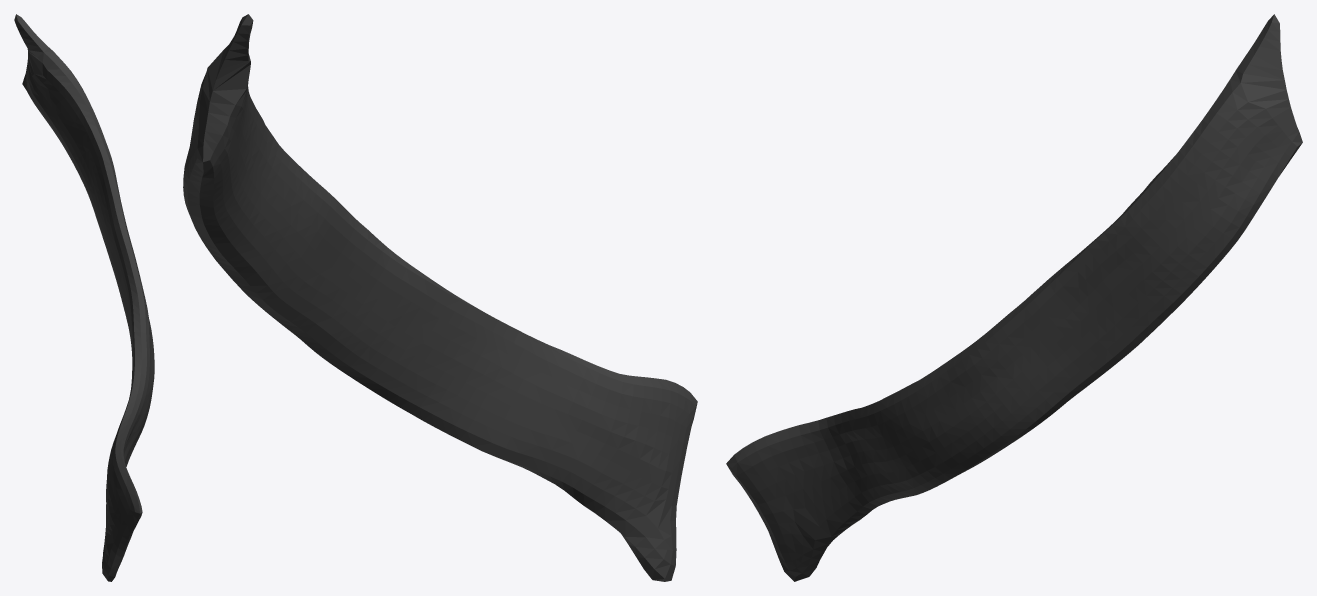
Rendered from zygomaticus.glb.
3 renders of one model, left to right at view 1: azimuth 30°, elevation 25°; view 2: azimuth 150°, elevation 25°; view 3: azimuth 270°, elevation 25°, orthographic. The views are drawn at different scales.
Parts seen in each view (by area): view 1: zygomaticus; view 2: zygomaticus; view 3: zygomaticus.
Part boxes in pixels (<box>): zygomaticus: <box>14,14,154,581</box>; zygomaticus: <box>183,14,697,581</box>; zygomaticus: <box>726,14,1302,581</box>.
Size of the model in its own units: 0.3526 by 1.09 by 0.9206.
1 material, 1 textured.
